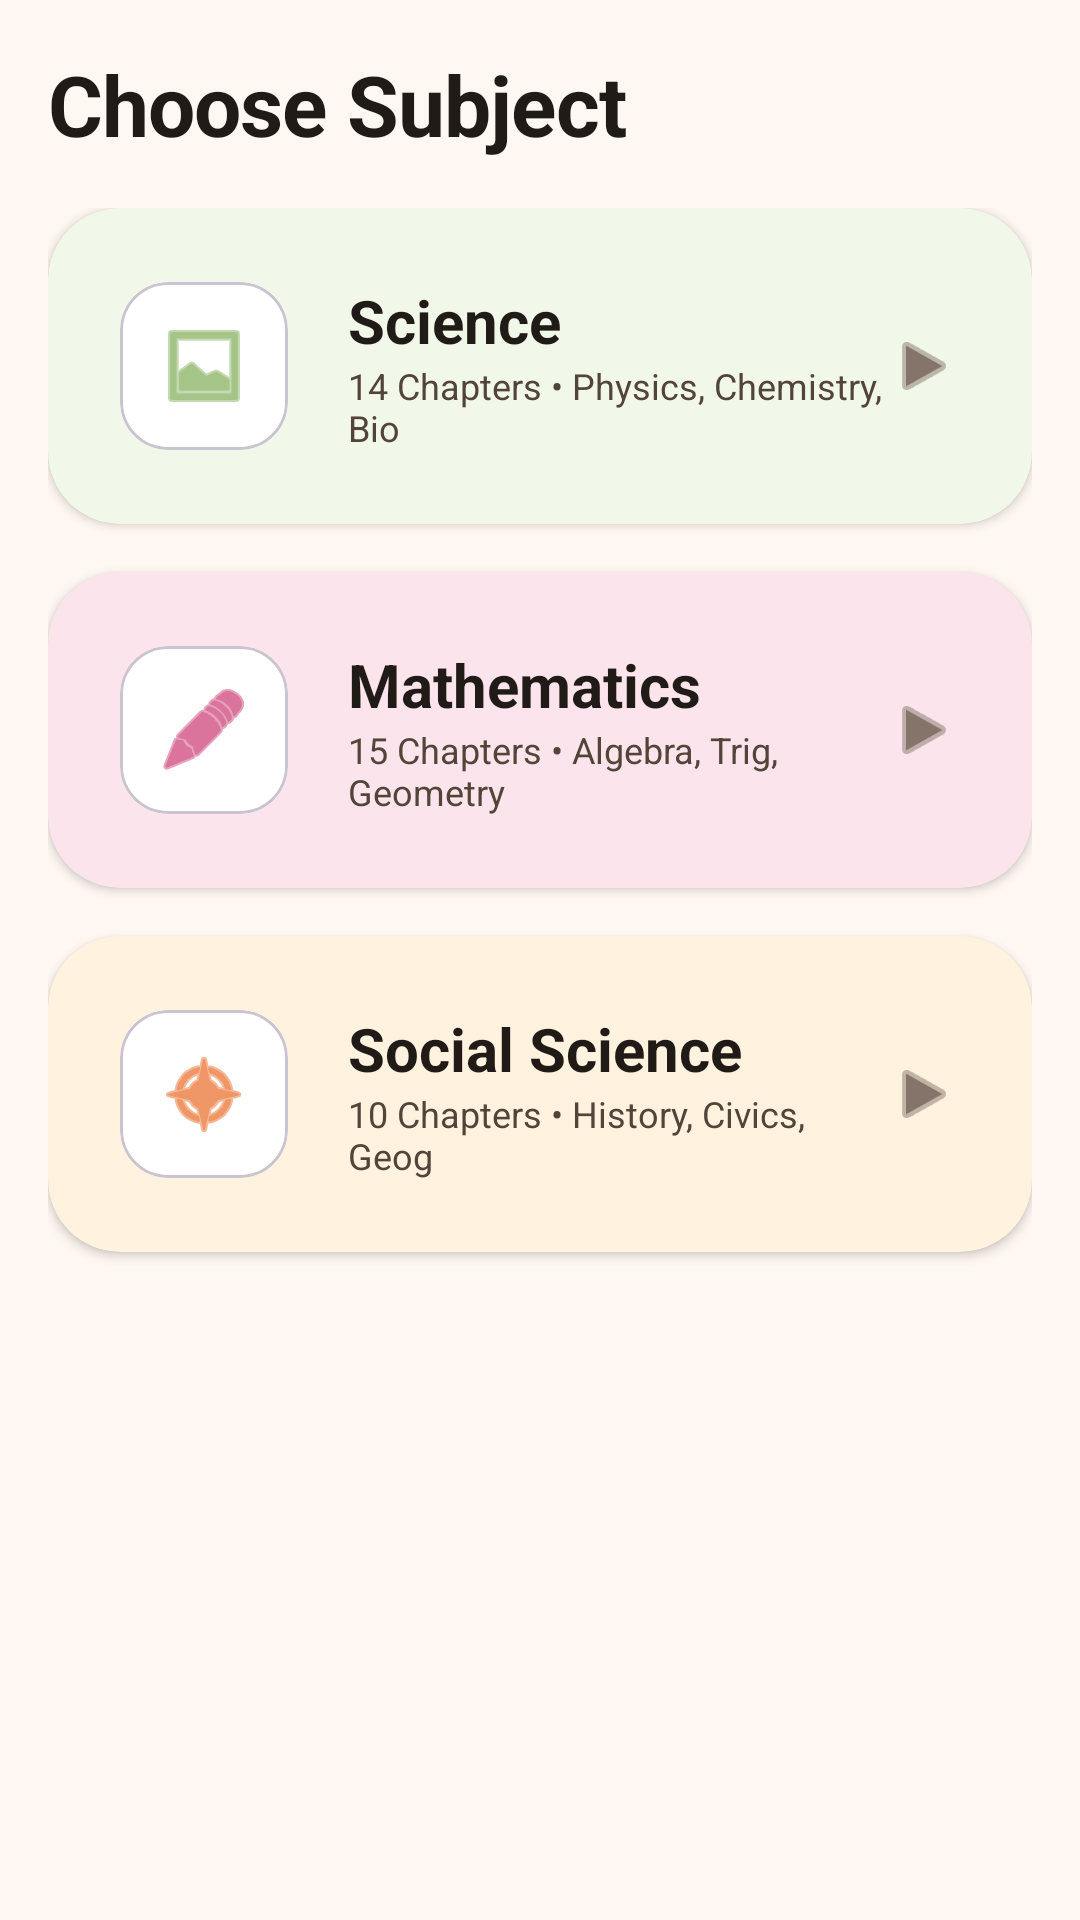

Point at icon controls on the screen. Image size 1080px×1920px, points as [x,y].
compass: [204,1094]
edit: [204,730]
gallery: [204,366]
play: [924,366], [924,730], [924,1094]
